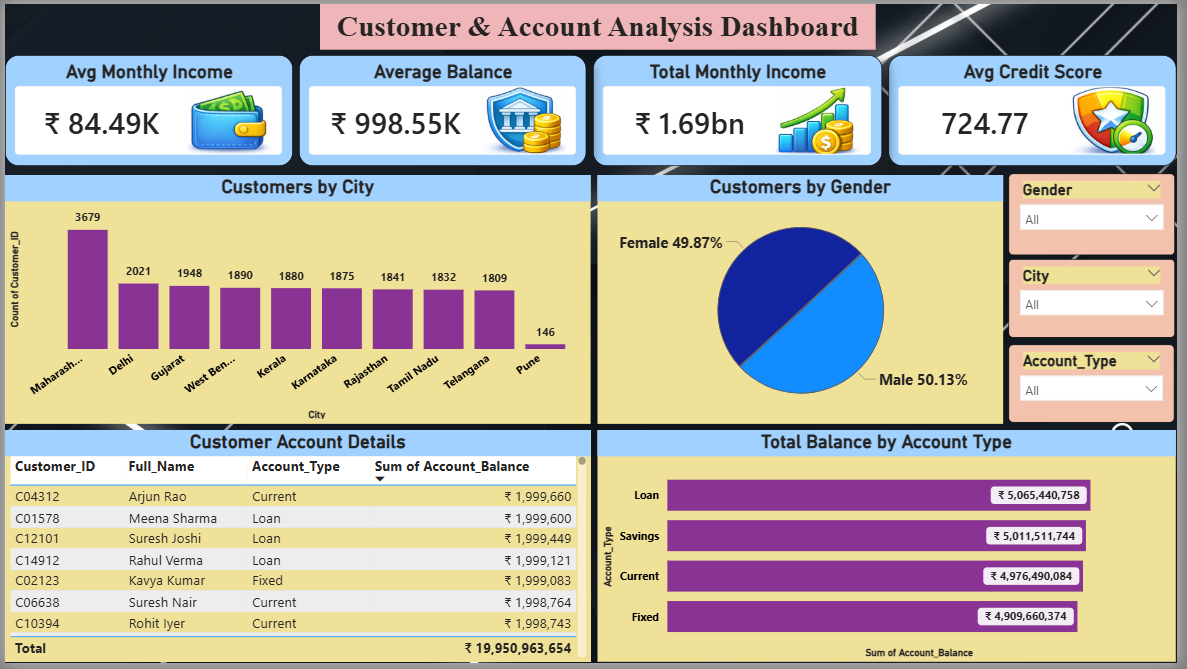

What the dashboard file says about the page in this screenshot:
{"tool":"powerbi","page":{"name":"Customer & Account Analysis","canvas":[1280,720],"ordinal":3},"visuals":[{"type":"textbox","box":[345,0,607.5,50],"z":0},{"type":"cardVisual","title":"Avg Monthly Income","fields":{"Data":["Account Details.Average Monthly Income"]},"box":[0,56.2,314.6,121.2],"z":1000},{"type":"cardVisual","title":"Avg Credit Score","fields":{"Data":["Account Details.Average Credit Score"]},"box":[966.2,56.2,314.6,121.2],"z":2000},{"type":"cardVisual","title":"Total Monthly Income","fields":{"Data":["Financial Details.Total Monthiy Income"]},"box":[642.1,56.2,315.8,121.2],"z":3000},{"type":"cardVisual","title":"Average Balance","fields":{"Data":["Account Details.Average Balance"]},"box":[321.6,56.3,314.2,121.1],"z":4000},{"type":"pieChart","title":"Customers by Gender","fields":{"Category":["Customer Details.Gender"],"Y":["CountNonNull(Customer Details.Customer_ID)"]},"box":[648.2,186.4,443.6,271.8],"z":5000},{"type":"barChart","title":"Total Balance by Account Type","fields":{"Category":["Account Details.Account_Type"],"Y":["Sum(Account Details.Account_Balance)"]},"box":[648.2,466.4,631.8,253.6],"z":6000},{"type":"columnChart","title":"Customers by City","fields":{"Category":["Customer Details.City"],"Y":["CountNonNull(Customer Details.Customer_ID)"]},"box":[0,186.4,640,271.8],"z":7000},{"type":"slicer","fields":{"Values":["Customer Details.Gender"]},"box":[1097.5,185.8,181.7,89.2],"z":8000},{"type":"slicer","fields":{"Values":["Customer Details.City"]},"box":[1097.5,279.2,181.7,85.8],"z":9000},{"type":"slicer","fields":{"Values":["Account Details.Account_Type"]},"box":[1097.5,372.5,181.2,85],"z":10000},{"type":"tableEx","title":"Customer Account Details","fields":{"Values":["Customer Details.Customer_ID","Customer Details.Full_Name","Account Details.Account_Type","Sum(Account Details.Account_Balance)"]},"box":[0,466.4,640,253.6],"z":11000}]}

Visuals, with their boxes in screenshot pixels (x1, y1, x2, y2), scaled from the page's 1280x720 canvas onto the 1187x669 screenshot:
textbox: 320 0 883 46
"Avg Monthly Income" cardVisual: 0 52 292 165
"Avg Credit Score" cardVisual: 896 52 1186 165
"Total Monthly Income" cardVisual: 595 52 888 165
"Average Balance" cardVisual: 298 52 590 165
"Customers by Gender" pieChart: 601 173 1012 426
"Total Balance by Account Type" barChart: 601 433 1186 668
"Customers by City" columnChart: 0 173 594 426
slicer - Customer Details.Gender: 1018 173 1186 256
slicer - Customer Details.City: 1018 259 1186 339
slicer - Account Details.Account_Type: 1018 346 1186 425
"Customer Account Details" tableEx: 0 433 594 668
